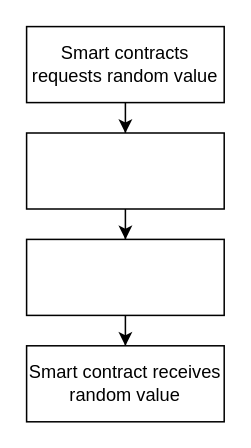
This 251x448 diagram has some shape labels left out. The centre of each missing label's shape, as x and y in pixels:
"ChainLink oracle generates randomness + proof" goes at point (124, 170).
"On-chain validator contract verifies proof" goes at point (124, 276).
